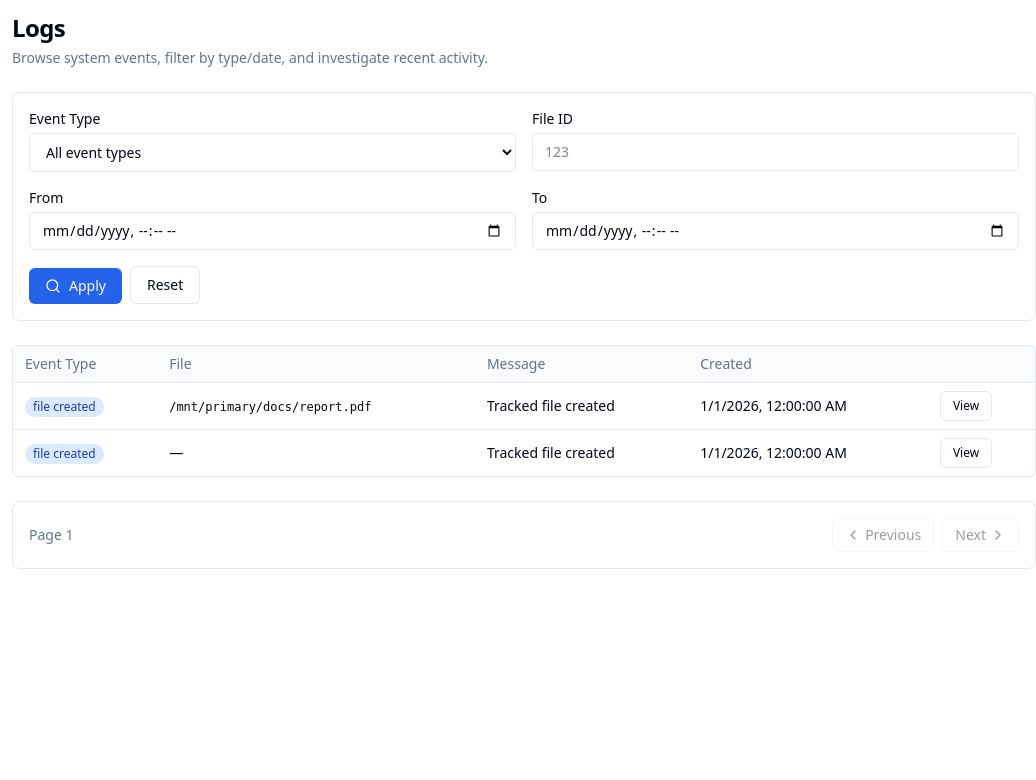
it: LogsPage › shows file_path in expanded log entry and "—" when both file_path and tracked_file_id are null
Expected: the row with test id "log-row-101" is shown, x1=13 y1=382 x2=1035 y2=430
Expected: the text "/mnt/primary/docs/report.pdf" is shown, x1=169 y1=400 x2=372 y2=414
Note: Expand entry with file_path to cover lines 379-383
Click the button "View" in the row of "/mnt/primary/docs/report.pdf": click(966, 406) x1=940 y1=391 x2=992 y2=421
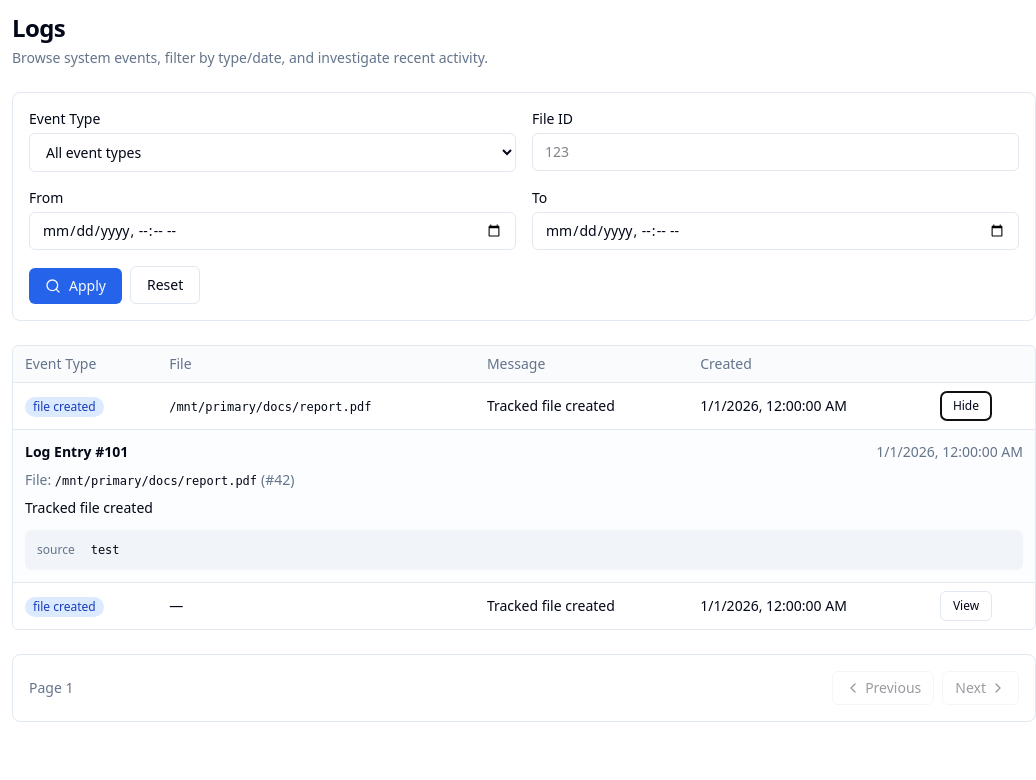
Expected: the 1st text "/mnt/primary/docs/report.pdf" is shown, x1=169 y1=400 x2=372 y2=414
Expected: the heading "Log Entry #101" is shown, x1=25 y1=442 x2=128 y2=462
